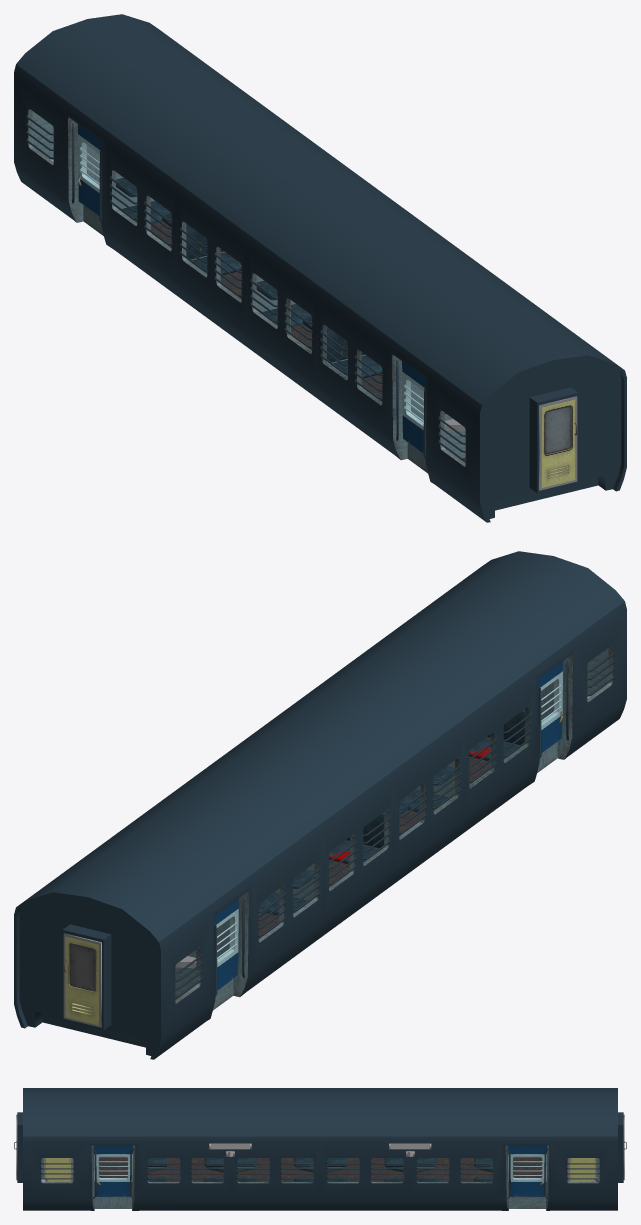
Rendered from Railway 1.fbx.
3 renders of one model, top to bottom at view 1: azimuth 30°, elevation 25°; view 2: azimuth 150°, elevation 25°; view 3: azimuth 270°, elevation 25°, orthographic. The views are drawn at different scales.
Parts seen in each view (by area): view 1: Train_Prefab__1__Variant, Coach_door__1_, Compartment_Door, Compartment_Door__1__1, Seats1_1, Seats1, Seats2_1, Seats2; view 2: Train_Prefab__1__Variant, Coach_door__1__1, Compartment_Door__1__1, Compartment_Door, Seats1, Seats1_1, Seats2, Seats2_1; view 3: Train_Prefab__1__Variant, Compartment_Door__2_, Compartment_Door__1_, Seats2, Seats1_1, Seats2_1, Seats1, Bathroom_Door, Bathroom_Door__1__1, Train_name_plate, Train_name_plate_1.
Boxes of the visible parts, x1=… form: Train_Prefab__1__Variant: x1=14, y1=14, x2=626, y2=522; Coach_door__1_: x1=539, y1=396, x2=577, y2=490; Compartment_Door: x1=402, y1=361, x2=426, y2=453; Compartment_Door__1__1: x1=78, y1=124, x2=102, y2=215; Seats1_1: x1=186, y1=223, x2=241, y2=298; Seats1: x1=326, y1=326, x2=382, y2=401; Seats2_1: x1=116, y1=178, x2=171, y2=247; Seats2: x1=256, y1=281, x2=311, y2=350; Train_Prefab__1__Variant: x1=14, y1=551, x2=626, y2=1059; Coach_door__1__1: x1=63, y1=933, x2=101, y2=1027; Compartment_Door__1__1: x1=214, y1=898, x2=238, y2=990; Compartment_Door: x1=538, y1=661, x2=562, y2=752; Seats1: x1=469, y1=709, x2=524, y2=784; Seats1_1: x1=329, y1=812, x2=384, y2=887; Seats2: x1=399, y1=766, x2=454, y2=835; Seats2_1: x1=258, y1=869, x2=314, y2=938; Train_Prefab__1__Variant: x1=17, y1=1088, x2=623, y2=1210; Compartment_Door__2_: x1=508, y1=1145, x2=547, y2=1196; Compartment_Door__1_: x1=93, y1=1145, x2=132, y2=1196; Seats2: x1=237, y1=1158, x2=313, y2=1181; Seats1_1: x1=327, y1=1158, x2=403, y2=1181; Seats2_1: x1=416, y1=1158, x2=492, y2=1181; Seats1: x1=147, y1=1158, x2=223, y2=1181; Bathroom_Door: x1=44, y1=1158, x2=72, y2=1181; Bathroom_Door__1__1: x1=568, y1=1158, x2=596, y2=1181; Train_name_plate: x1=209, y1=1143, x2=251, y2=1156; Train_name_plate_1: x1=389, y1=1143, x2=431, y2=1156.
Bounding box in the file's own units: 429 × 393 × 2329.
